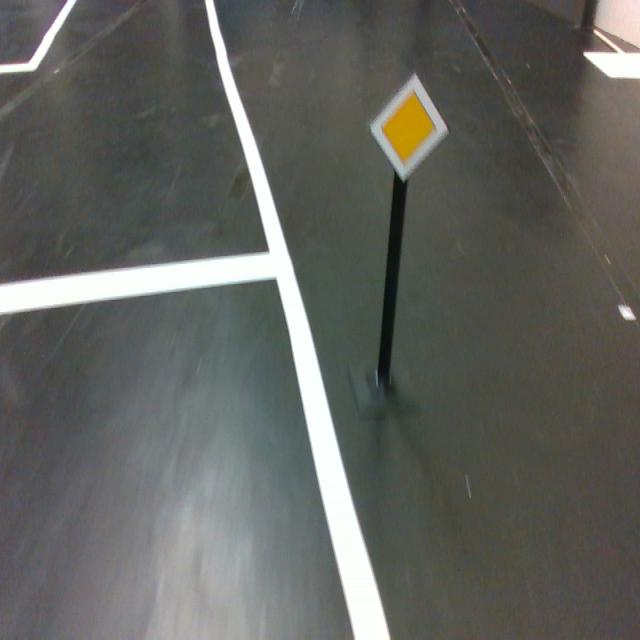priority-sign: (368, 71, 451, 184)
